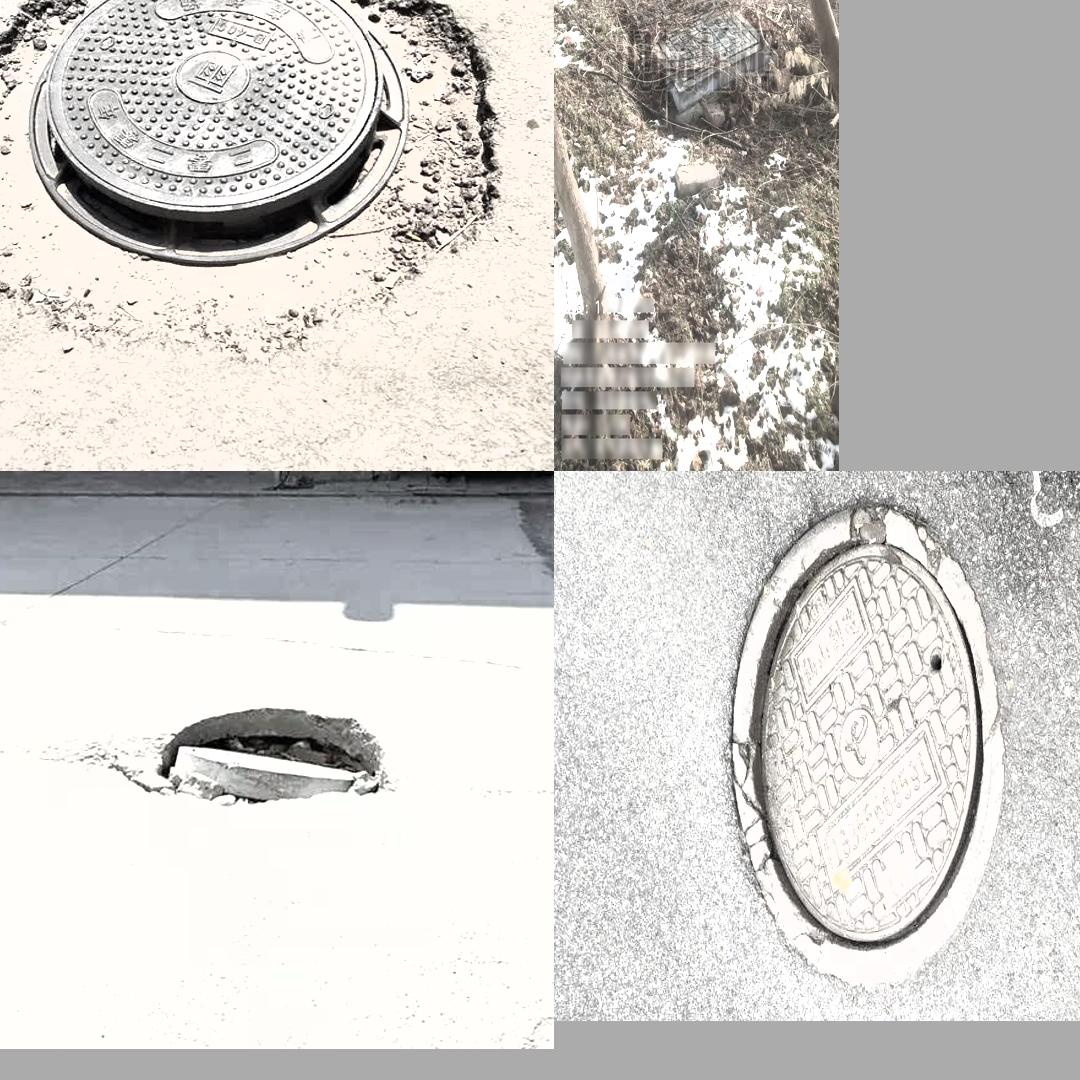circle: (682, 493, 1027, 999), (0, 0, 492, 351), (77, 693, 411, 835), (623, 0, 771, 118)
